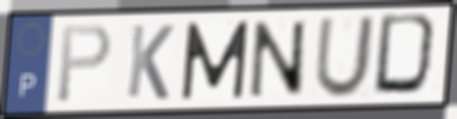D: (370, 11, 445, 100)
K: (124, 22, 177, 102)
M: (179, 18, 252, 103)
N: (248, 19, 308, 100)
P: (54, 22, 115, 106)
U: (311, 13, 378, 100)
